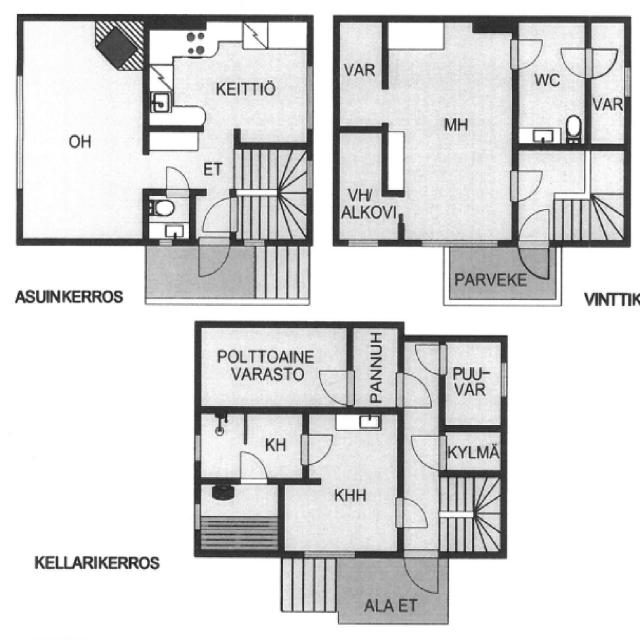door: (519, 206, 553, 285), (552, 46, 621, 78), (399, 548, 442, 597), (312, 361, 356, 407), (188, 238, 231, 280), (232, 446, 276, 486), (390, 496, 436, 532), (506, 33, 546, 74), (201, 197, 238, 241), (407, 433, 451, 468), (392, 371, 432, 409), (502, 164, 543, 199), (297, 431, 337, 466), (410, 338, 449, 373), (158, 159, 190, 197)
window: (6, 67, 33, 192), (414, 234, 498, 251), (302, 62, 322, 131), (300, 543, 360, 565), (340, 234, 386, 253), (494, 362, 512, 402), (618, 62, 636, 99), (241, 236, 266, 257), (187, 502, 204, 528), (188, 431, 202, 462), (305, 158, 317, 193)
zone: (387, 16, 513, 242), (18, 17, 144, 239), (144, 22, 306, 141), (199, 326, 354, 404), (516, 18, 585, 146), (280, 481, 403, 552), (198, 411, 306, 478), (336, 123, 396, 240), (305, 414, 403, 478), (332, 18, 385, 124), (196, 481, 280, 546), (443, 341, 508, 420), (588, 20, 626, 146), (350, 325, 403, 403), (439, 430, 506, 472), (146, 190, 189, 240)
